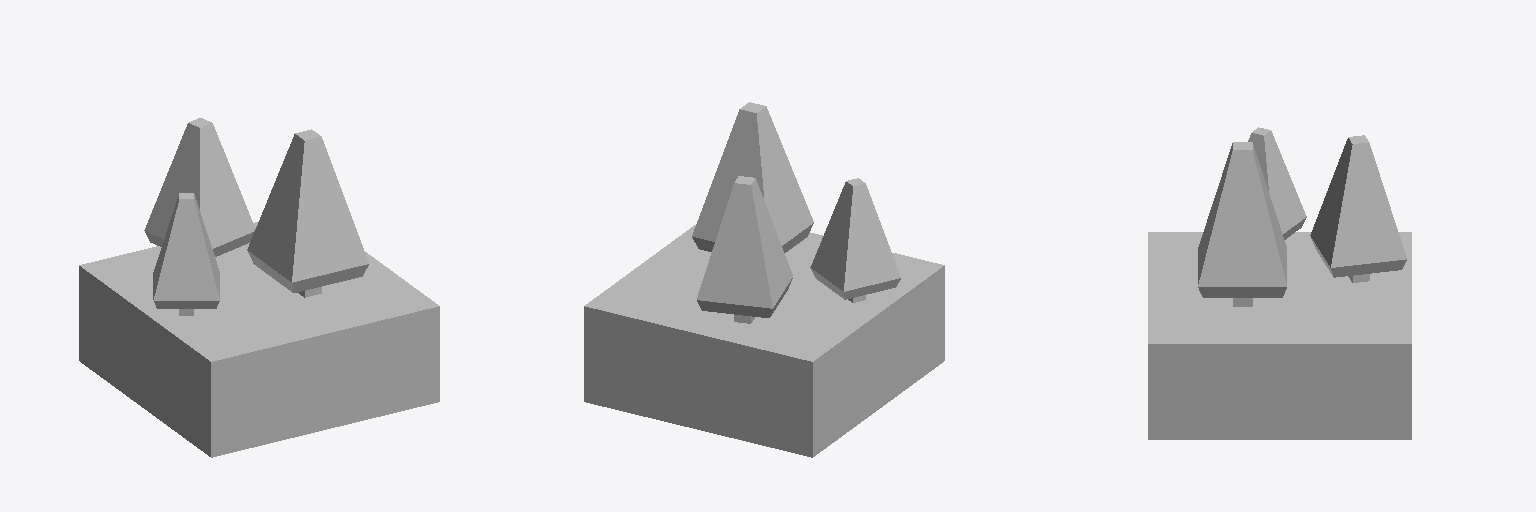
The model's file is tile_062.obj.
The picture shows the model from 3 angles: view 1: azimuth 30°, elevation 25°; view 2: azimuth 150°, elevation 25°; view 3: azimuth 270°, elevation 25°; orthographic projection.
Parts seen in each view (by area): view 1: tile_062, Component#2; view 2: tile_062, Component#2; view 3: tile_062, Component#2.
Part boxes in pixels (x1,y1,x2,y2): tile_062: (79, 222, 439, 457); Component#2: (144, 118, 368, 315); tile_062: (584, 225, 944, 457); Component#2: (692, 102, 900, 323); tile_062: (1148, 232, 1411, 439); Component#2: (1198, 127, 1406, 306).
Size of the model in its own units: 1.03 by 1.06 by 1.